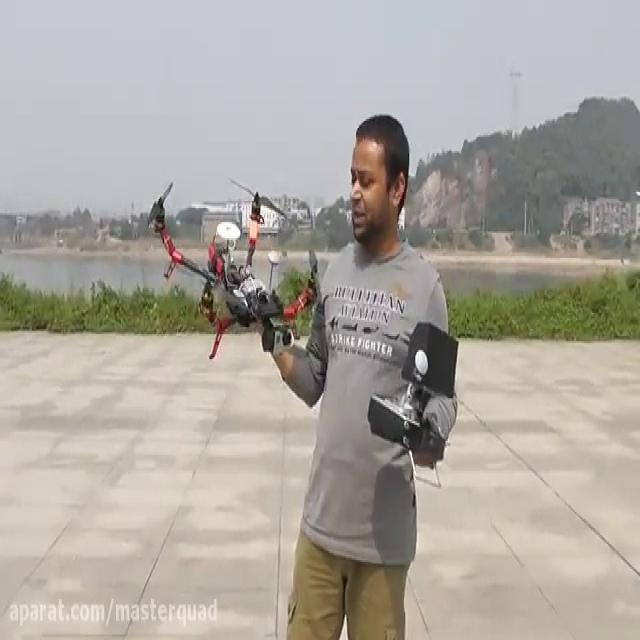drone: (142, 170, 323, 360)
